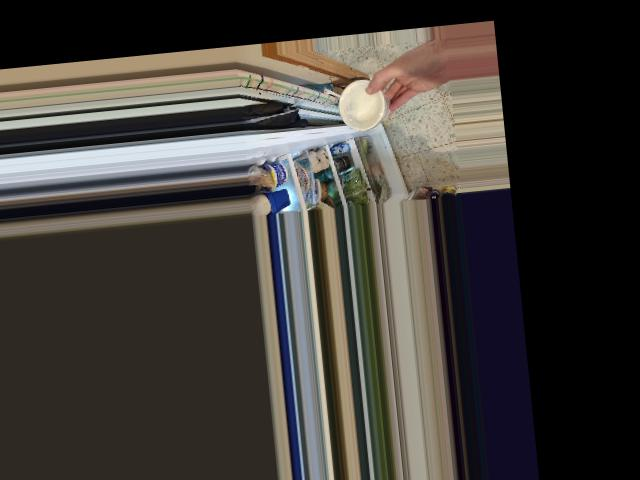cotage: (330, 80, 387, 135)
